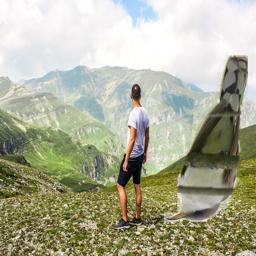Cuckoo: (164, 55, 248, 222)
